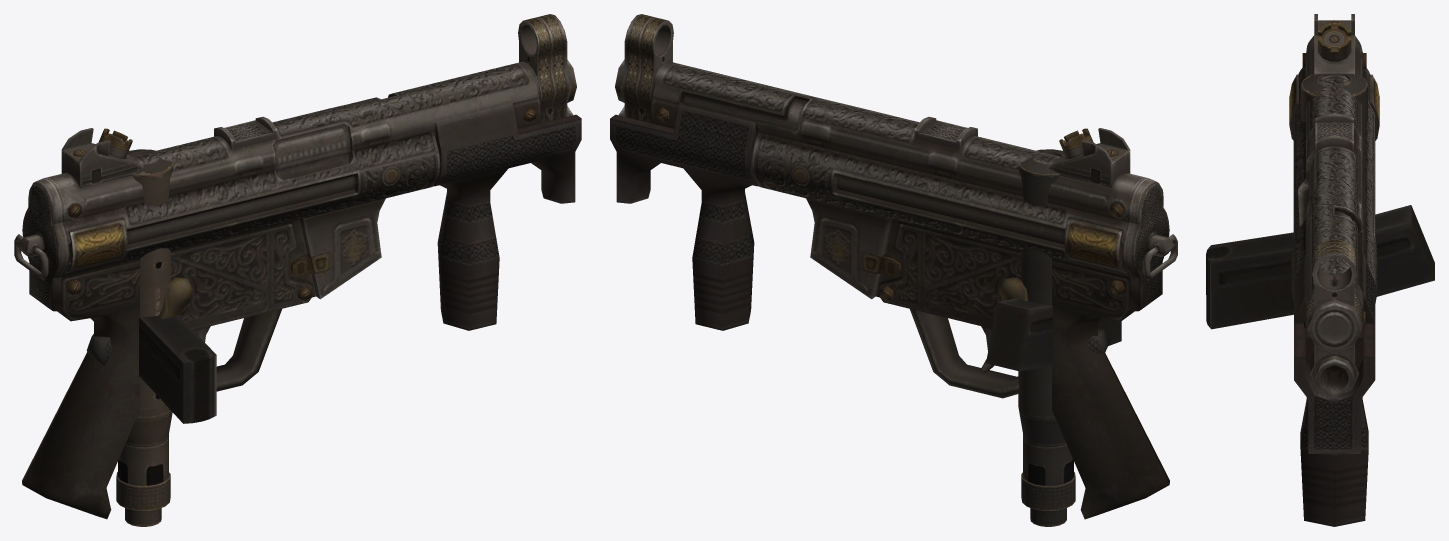
File: MP5K_SERIF.obj
3 views of the same model, side by side, from view 1: azimuth 30°, elevation 25°; view 2: azimuth 150°, elevation 25°; view 3: azimuth 270°, elevation 25° (orthographic). The views are drawn at different scales.
Visible parts, largest first — view 1: Part_1, Part_0, Part_3; view 2: Part_1, Part_0, Part_3; view 3: Part_1, Part_3, Part_0.
Boxes of the visible parts, left/top/right/bottom form: Part_1: left=14, top=14, right=581, bottom=519; Part_0: left=116, top=149, right=173, bottom=526; Part_3: left=139, top=315, right=216, bottom=423; Part_1: left=610, top=14, right=1177, bottom=519; Part_0: left=1018, top=149, right=1075, bottom=526; Part_3: left=986, top=298, right=1121, bottom=371; Part_1: left=1289, top=14, right=1379, bottom=526; Part_3: left=1206, top=205, right=1434, bottom=329; Part_0: left=1301, top=74, right=1367, bottom=397.
Size of the model in its own units: 0.3568 by 0.2523 by 0.1189.
Materials: 2 (2 with a texture image).
